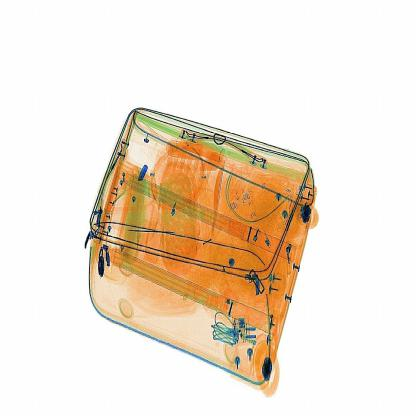pliers: (123, 216, 185, 253)
